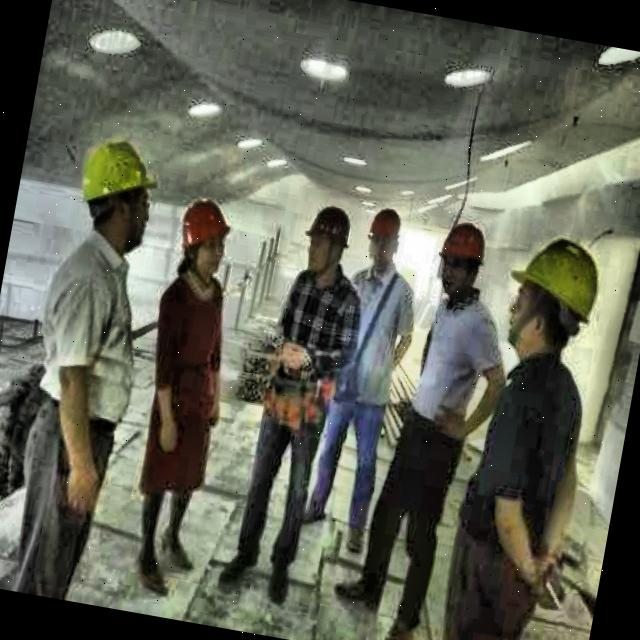helmet: (489, 222, 612, 366), (70, 132, 168, 264), (168, 192, 240, 286), (424, 213, 494, 307), (293, 194, 359, 282), (359, 204, 408, 272)
